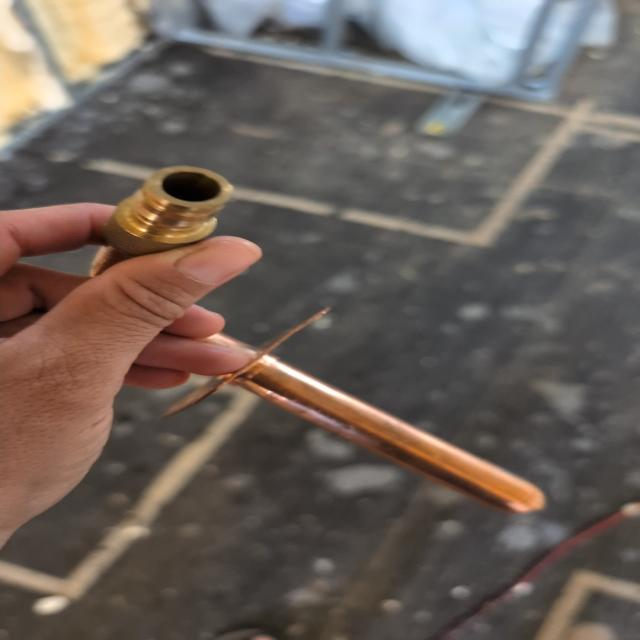wall_flange: (82, 160, 557, 522)
